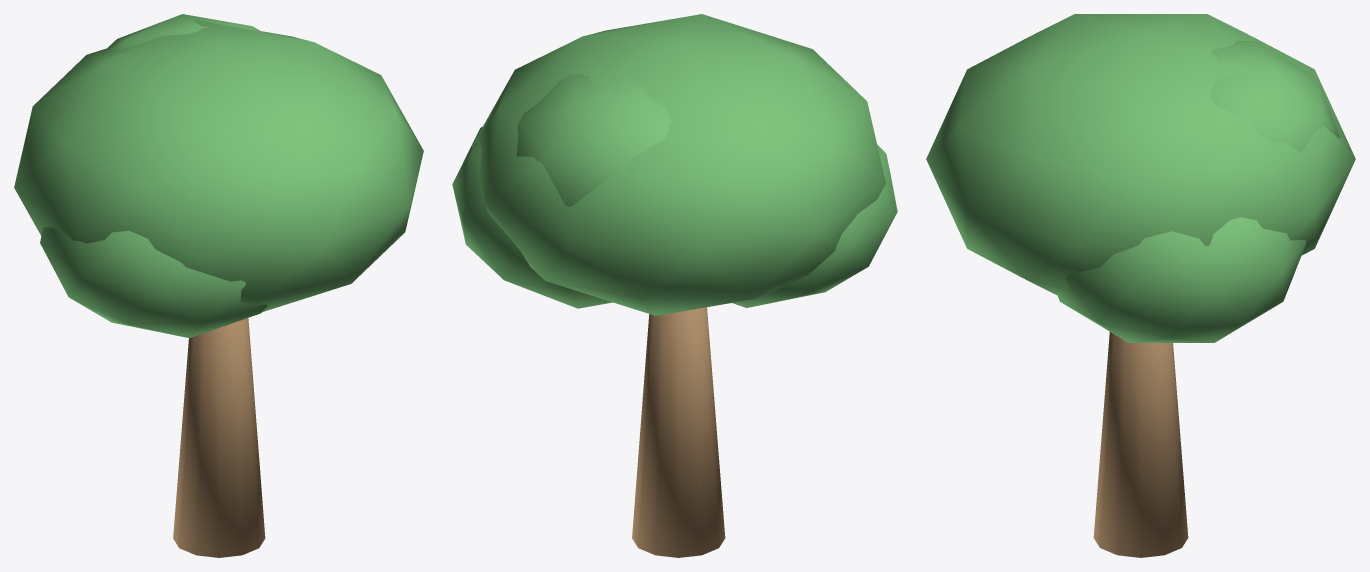
File: Tree.fbx
The picture shows the model from 3 angles, left to right: view 1: azimuth 30°, elevation 25°; view 2: azimuth 150°, elevation 25°; view 3: azimuth 270°, elevation 25°; orthographic projection. The views are drawn at different scales.
Parts seen in each view (by area): view 1: Tree; view 2: Tree; view 3: Tree.
Part boxes in pixels (bbox=[...]): Tree: bbox=[14, 14, 423, 557]; Tree: bbox=[452, 14, 897, 557]; Tree: bbox=[926, 14, 1355, 557].
Size of the model in its own units: 309 by 399 by 308.
